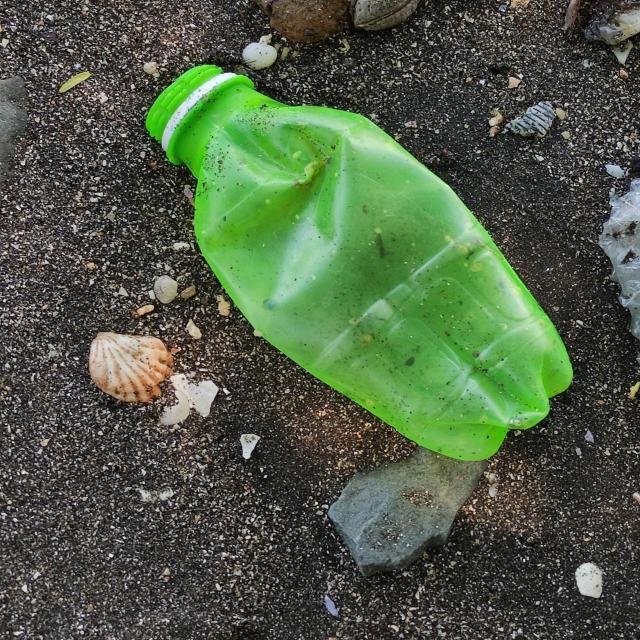plastic_waste: (140, 65, 577, 464)
